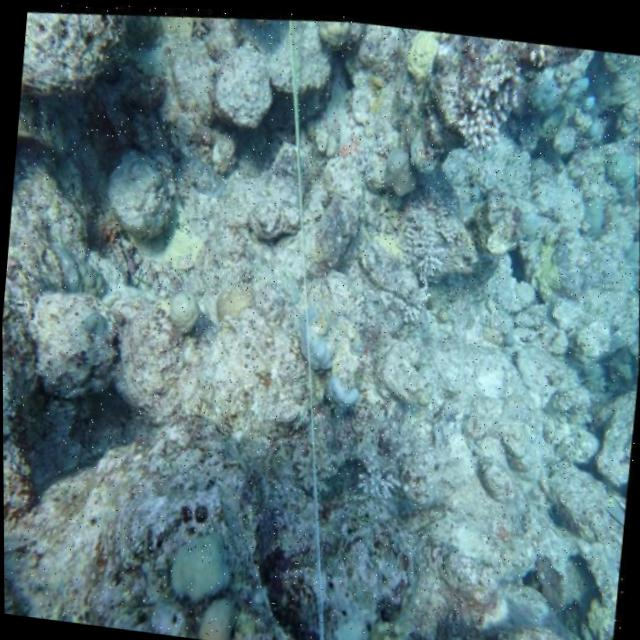Bleached Coral: (344, 165, 478, 361), (155, 498, 270, 640), (430, 26, 539, 170), (274, 286, 380, 416), (338, 427, 441, 535), (346, 575, 432, 640), (150, 272, 220, 346)
